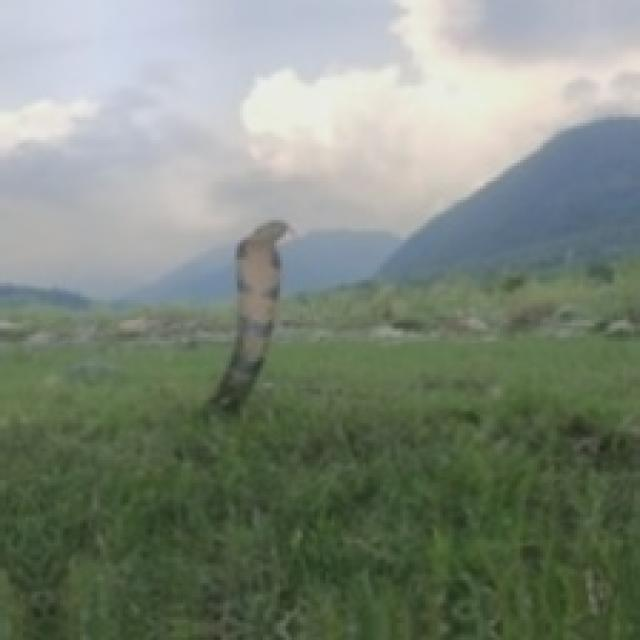king cobra: (209, 220, 286, 411)
